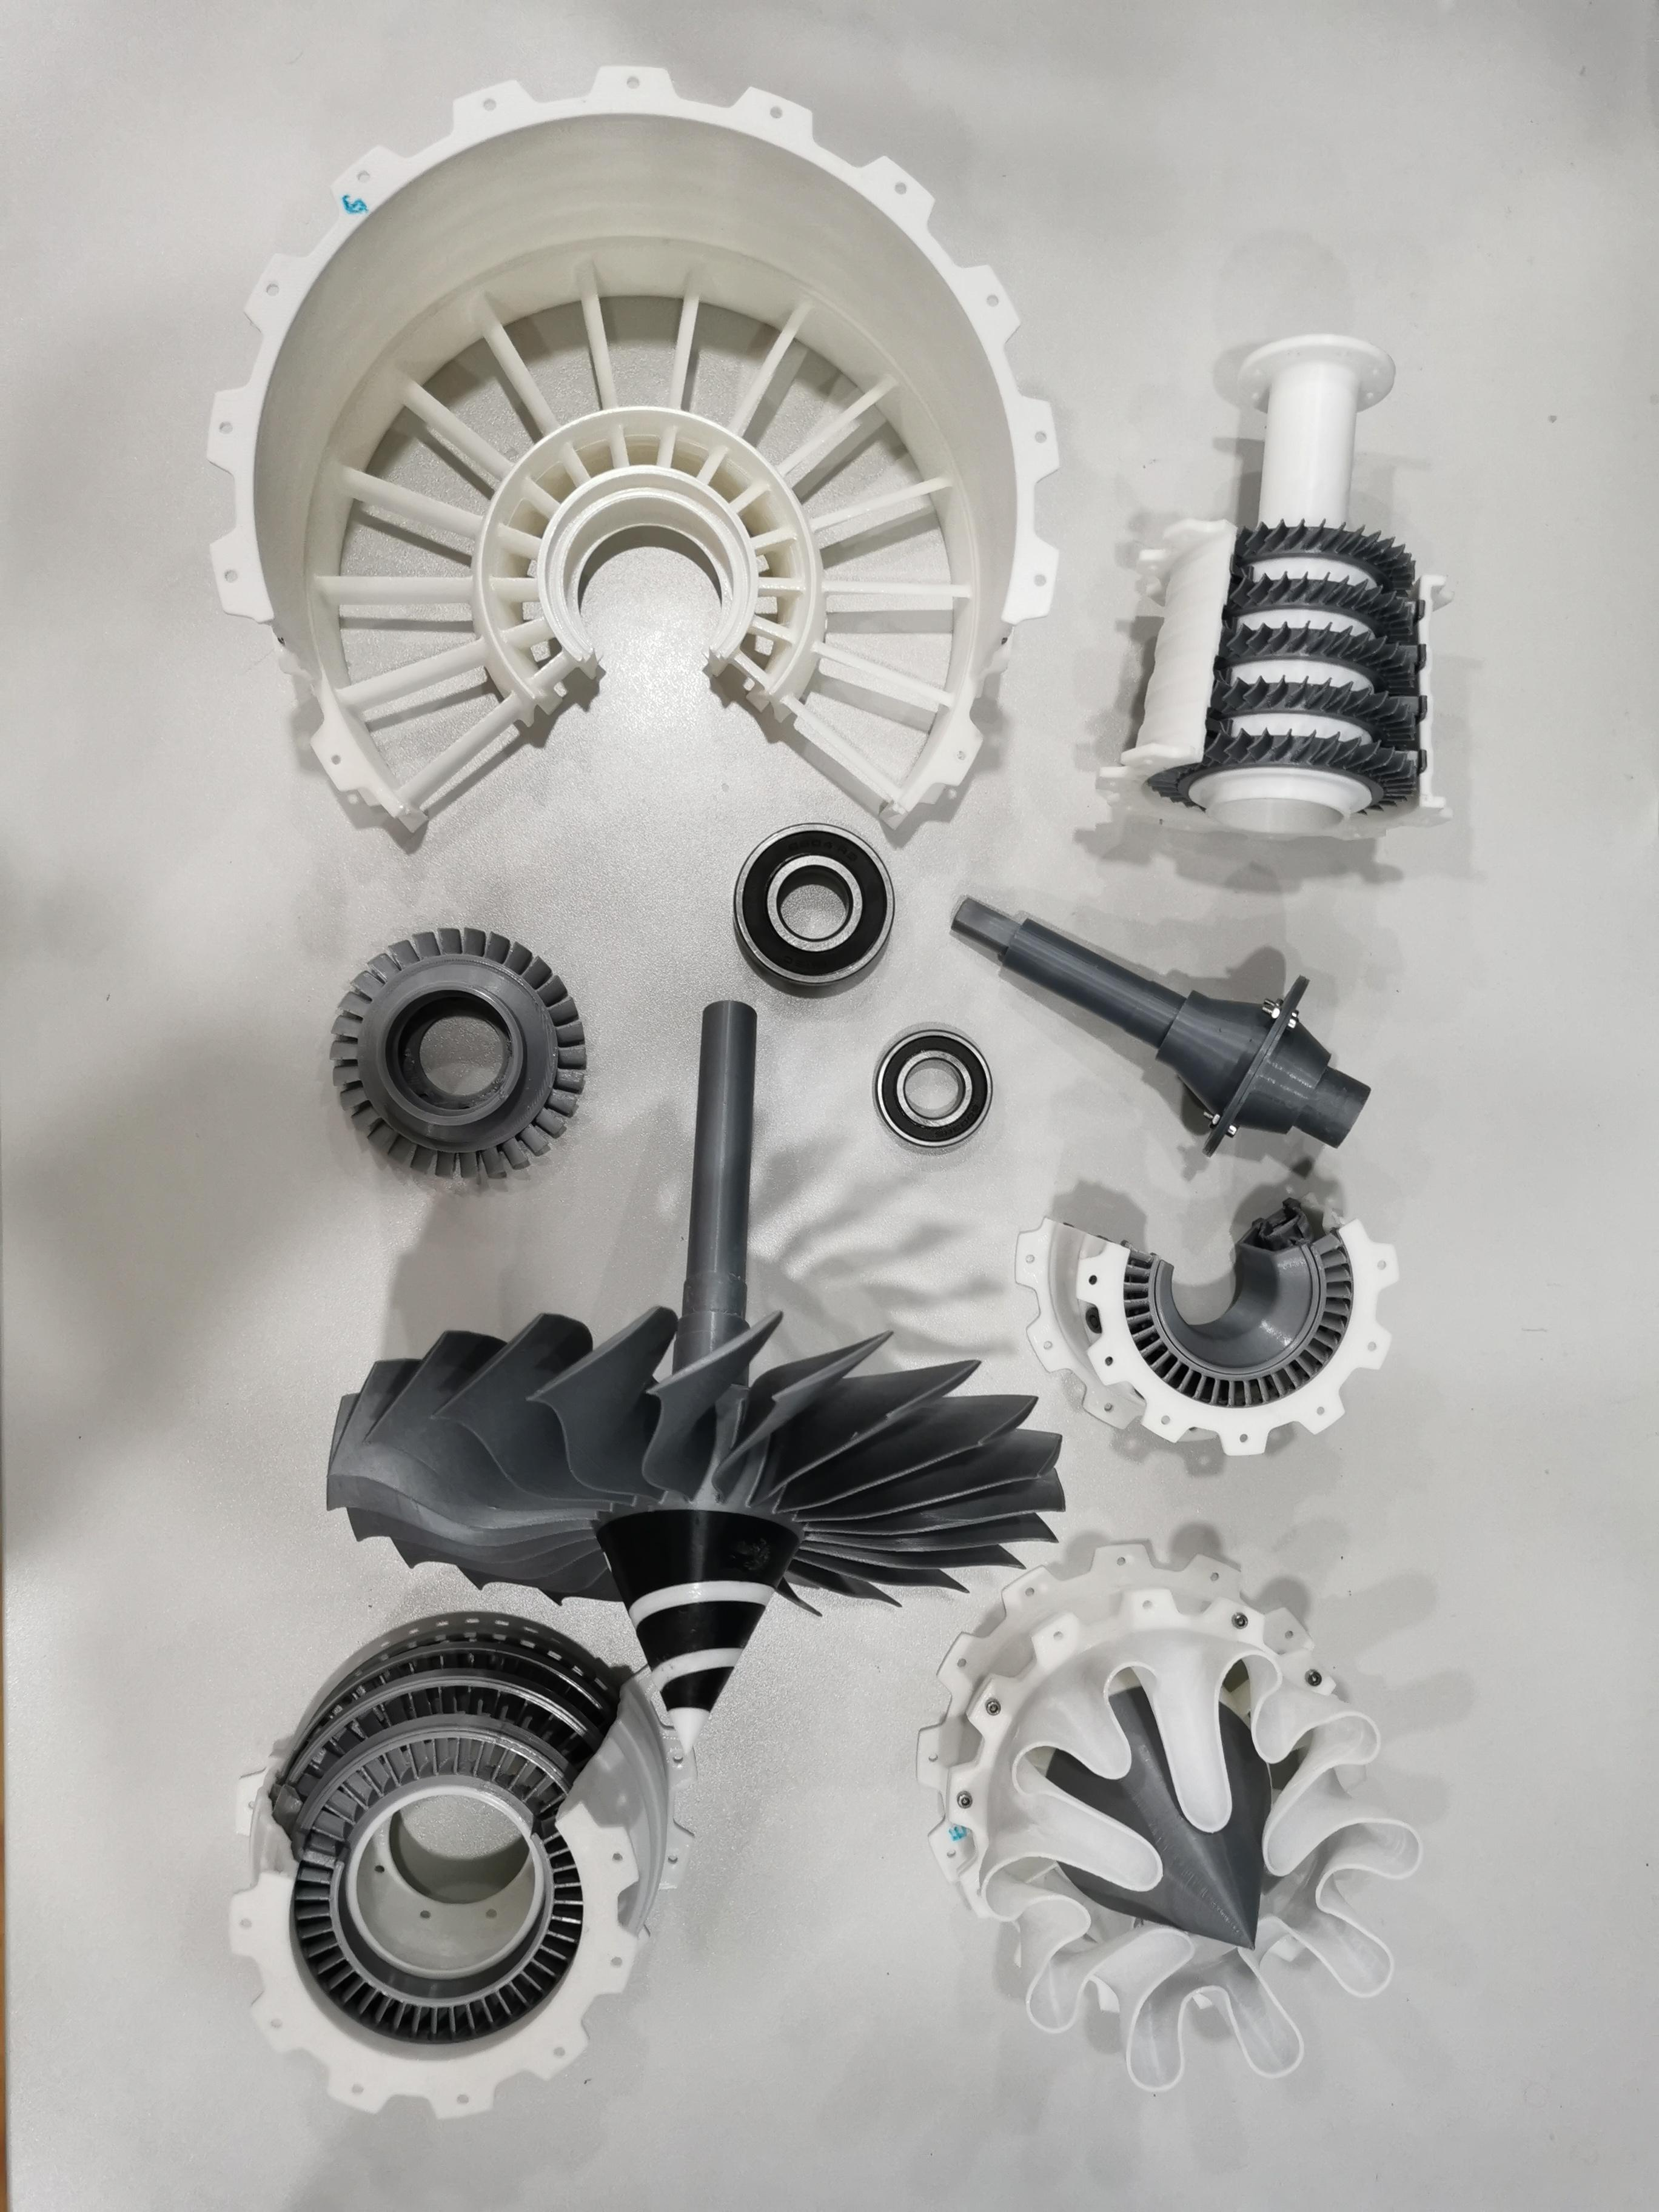Bearing-6003: (868, 1015, 1004, 1163)
Bearing-6204: (723, 817, 903, 1000)
Combustion Section: (992, 1191, 1422, 1470)
Fan Casing and Support: (190, 54, 1075, 846)
Fan and Low Pressure Shaft: (312, 993, 1079, 1763)
HPT Section: (300, 916, 603, 1204)
High Pressure Spool: (1075, 320, 1483, 860)
LPT Section: (214, 1595, 709, 2127)
Low Pressure Spool: (948, 873, 1403, 1169)
Nozzle Section: (899, 1533, 1438, 2102)
